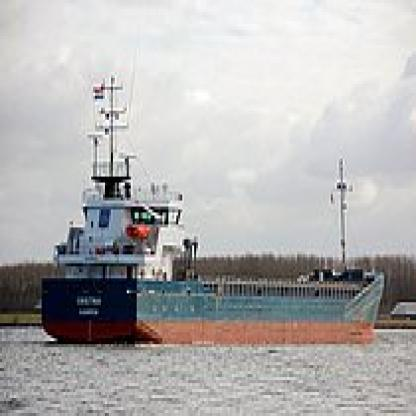Tanker: (32, 234, 390, 354)
